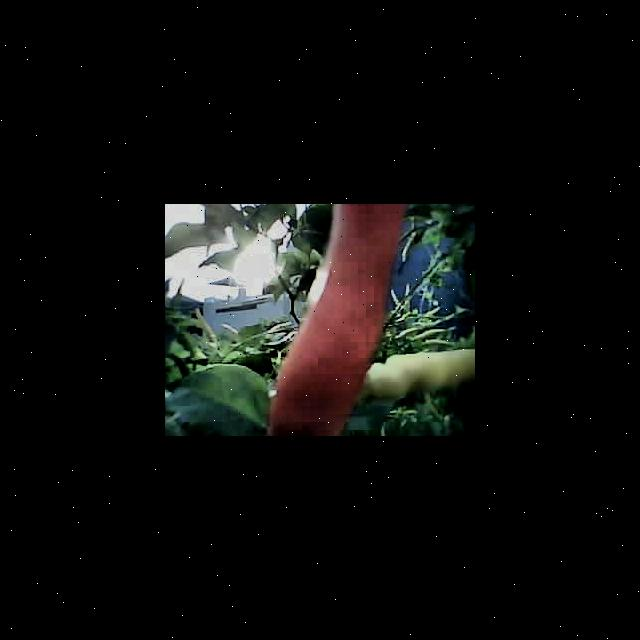Cabai: (276, 204, 364, 435)
